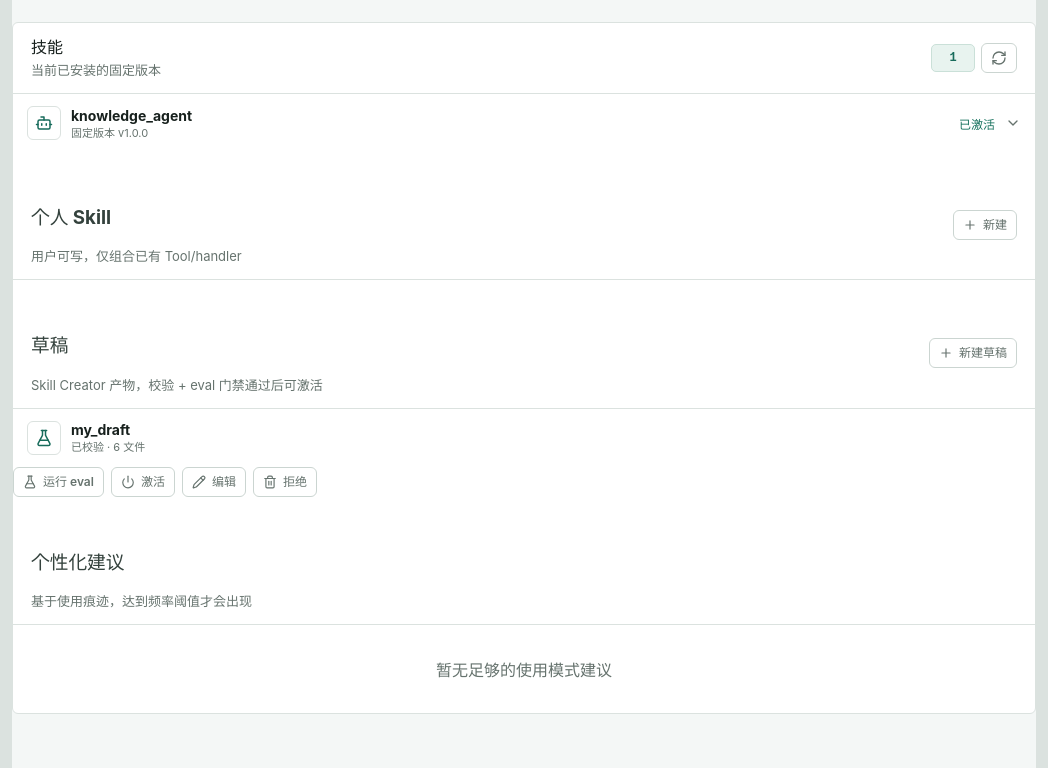
runs the deterministic eval and shows the gate result
The width and height of the screenshot is (1048, 768).
What coordinates should you click on to do the following:
click the button with aria-label "运行 eval my_draft"
I would click on:
 (58, 482)
Its box is [13, 467, 104, 497].
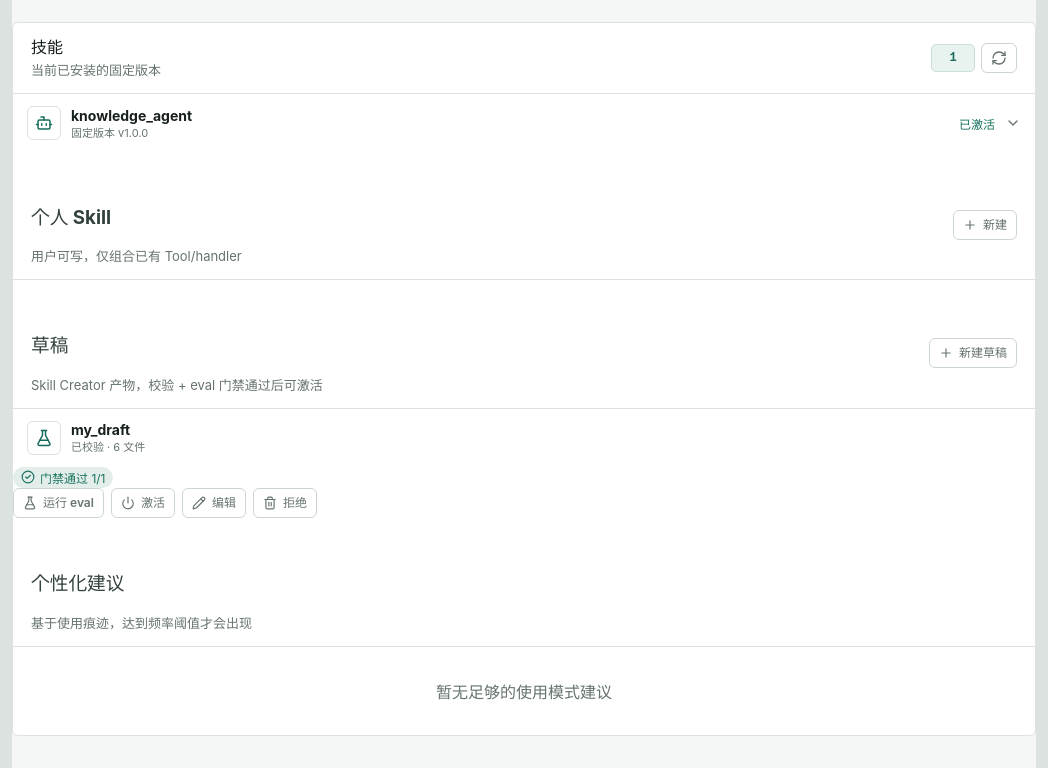
expect the text "门禁通过 1/1" is shown: met, box [13, 467, 114, 488]
